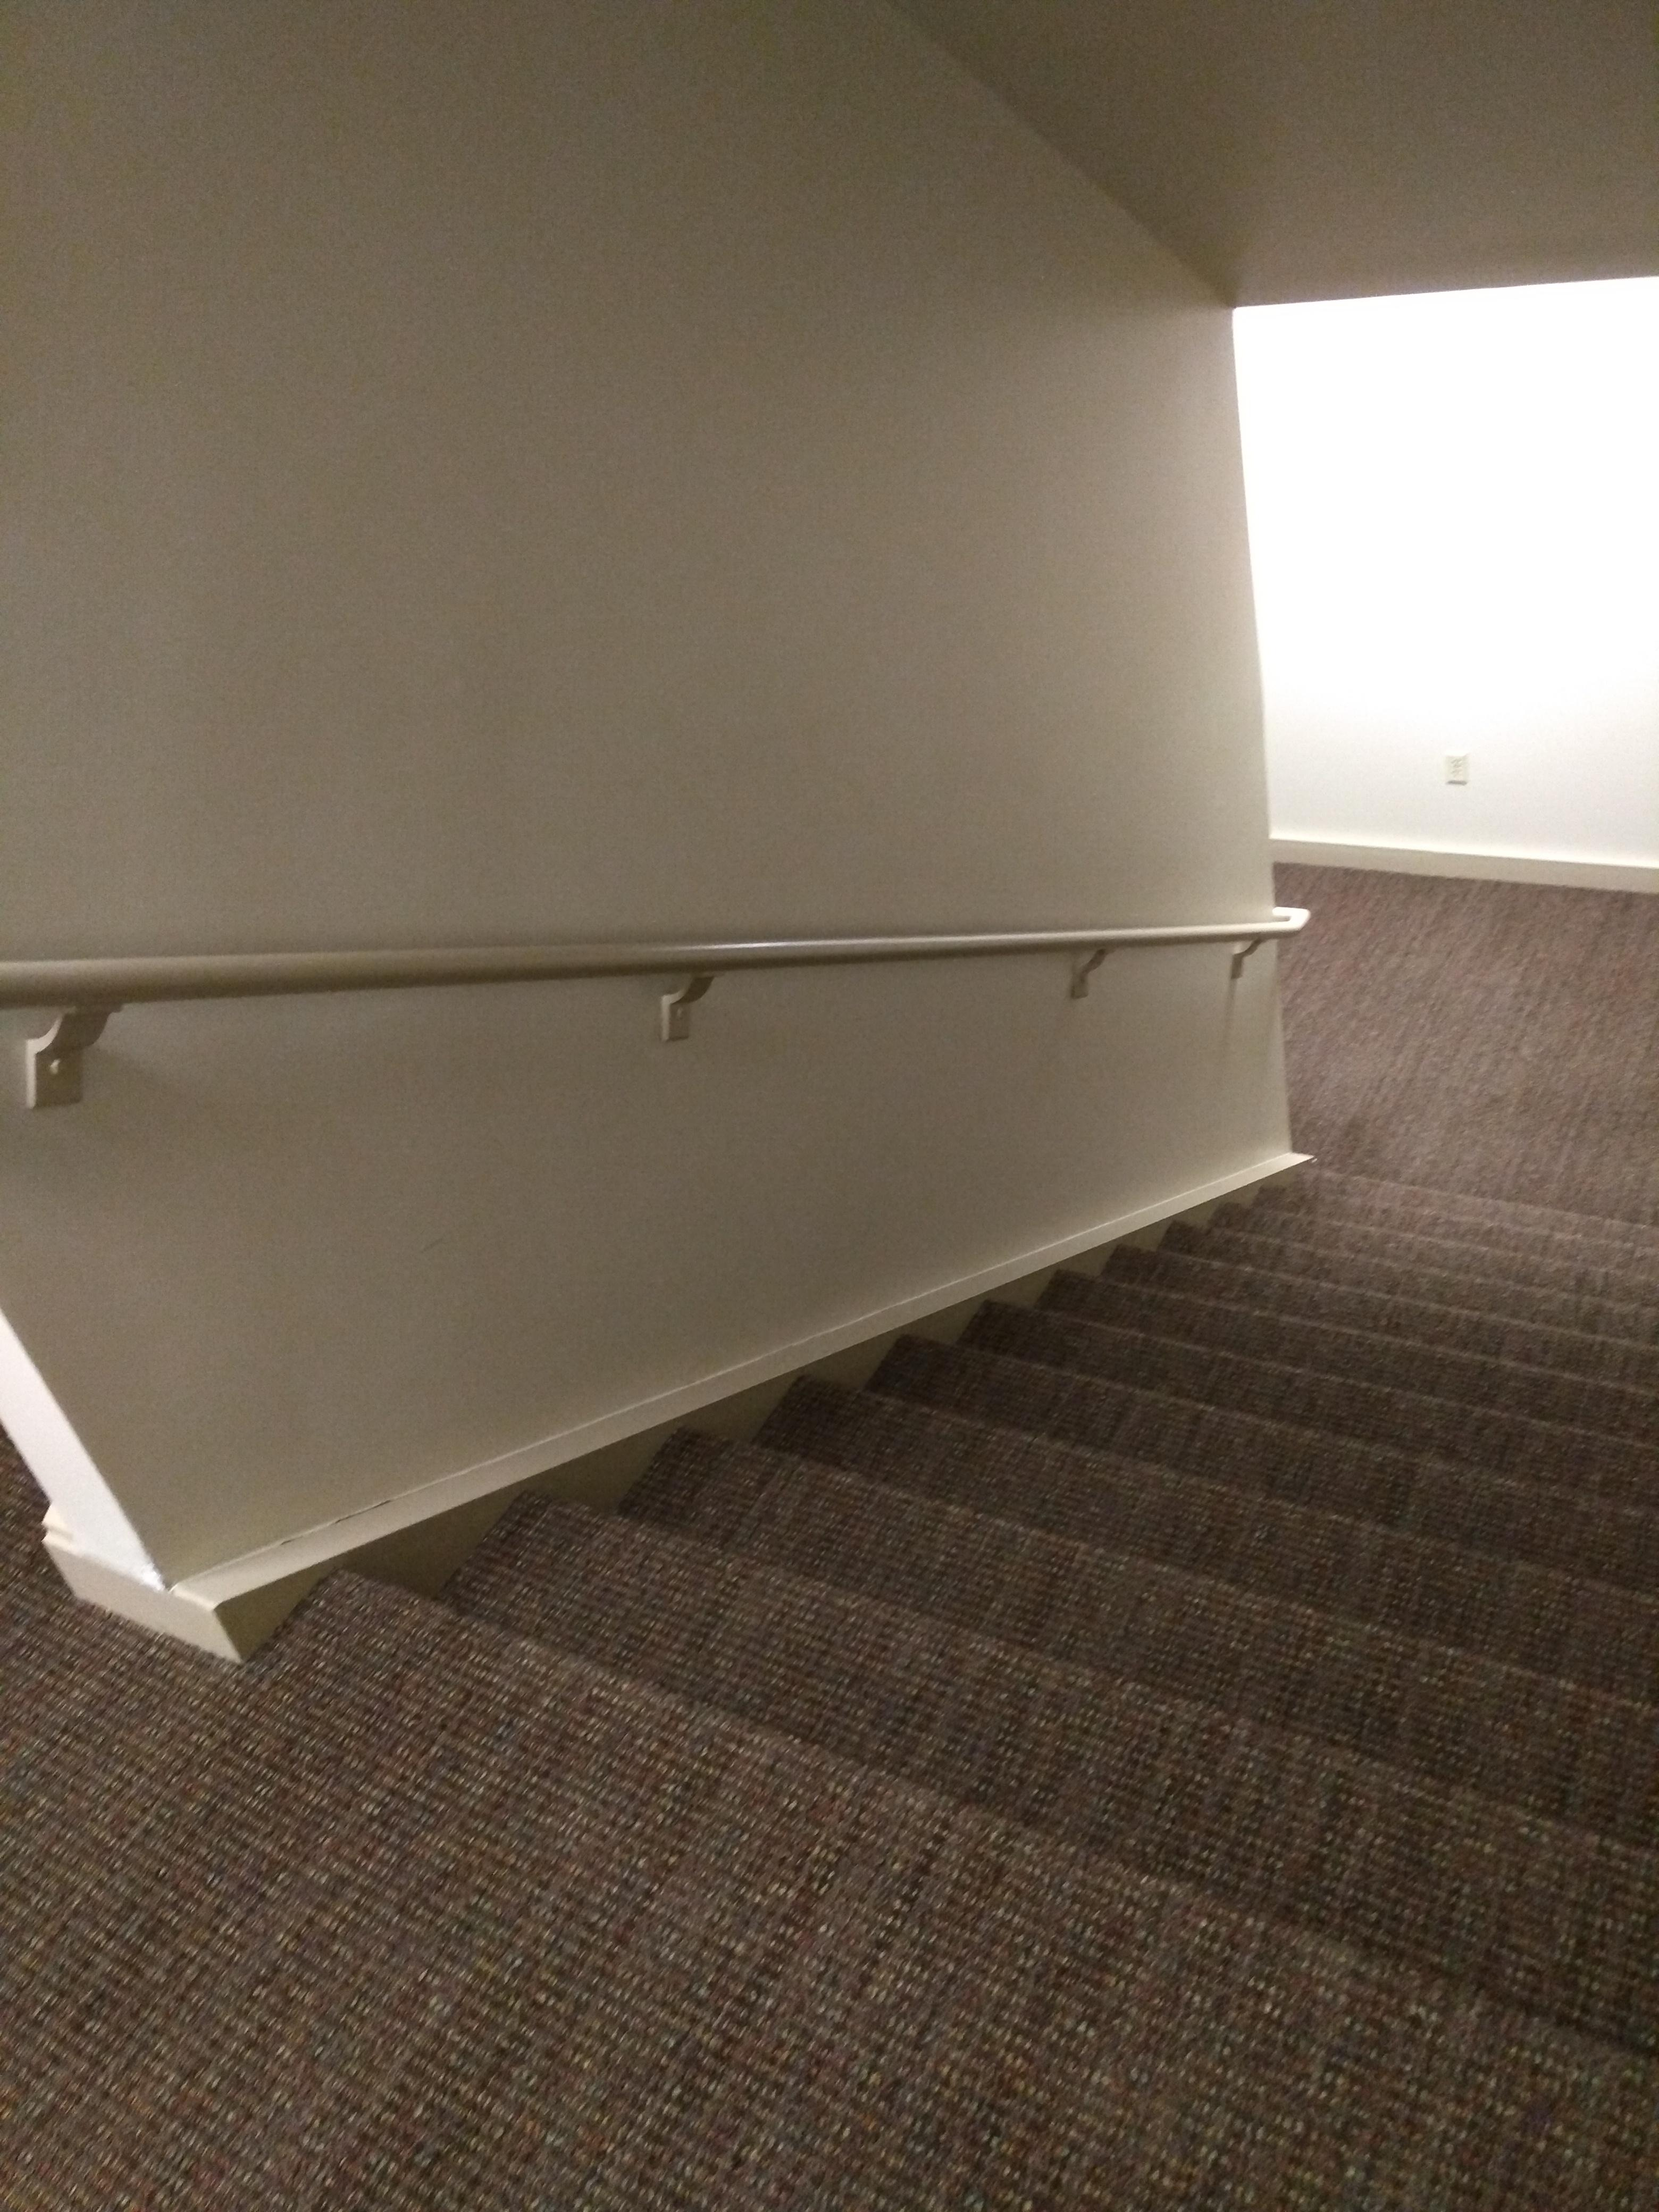stairs_down: (293, 1198, 1629, 2012)
